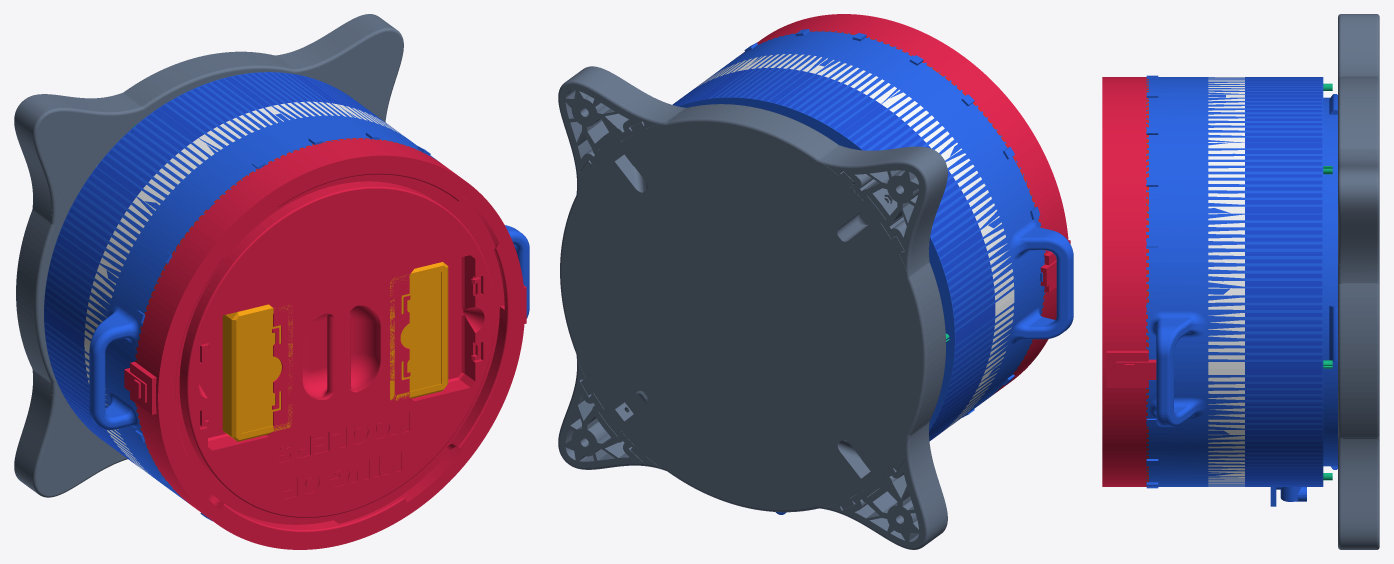
The model's file is KingOfKoolers_V12_12in_Tall_24od.obj.
3 renders of one model, left to right at view 1: azimuth 30°, elevation 25°; view 2: azimuth 150°, elevation 25°; view 3: azimuth 270°, elevation 25°, orthographic. The views are drawn at different scales.
Parts seen in each view (by area): view 1: v12_crown_lid_V12_Embossed_Crown_Lid_+_Deadbolt_Sliders, v12_wagon_base_Concentric_Dovetail_Wagon_Base_+_4x_Wheel_Feet, v12_one_piece_12in_V12_12in_Tall_24in_OD_One-Piece_Body, v12_sec2_lower_12in_Sec_2_-_Lower_Body_&_Spigot_(12in_Version), v12_solar_batteries_Dual_10W_USB_Solar_Battery_Enclosures, v12_sec4_handles_Sec_4_-_Molded_Side_Loop_Handle_Ring, v12_sec3_mid_12in_Sec_3_-_Mid_Body_Extension_(12in_Version), v12_sec5_collar_Sec_5_-_20-Start_Helix_&_Keyway_Collar; view 2: v12_wagon_base_Concentric_Dovetail_Wagon_Base_+_4x_Wheel_Feet, v12_one_piece_12in_V12_12in_Tall_24in_OD_One-Piece_Body, v12_sec2_lower_12in_Sec_2_-_Lower_Body_&_Spigot_(12in_Version), v12_crown_lid_V12_Embossed_Crown_Lid_+_Deadbolt_Sliders, v12_sec4_handles_Sec_4_-_Molded_Side_Loop_Handle_Ring, v12_sec3_mid_12in_Sec_3_-_Mid_Body_Extension_(12in_Version), v12_sec5_collar_Sec_5_-_20-Start_Helix_&_Keyway_Collar; view 3: v12_one_piece_12in_V12_12in_Tall_24in_OD_One-Piece_Body, v12_sec2_lower_12in_Sec_2_-_Lower_Body_&_Spigot_(12in_Version), v12_wagon_base_Concentric_Dovetail_Wagon_Base_+_4x_Wheel_Feet, v12_crown_lid_V12_Embossed_Crown_Lid_+_Deadbolt_Sliders, v12_sec4_handles_Sec_4_-_Molded_Side_Loop_Handle_Ring, v12_sec3_mid_12in_Sec_3_-_Mid_Body_Extension_(12in_Version), v12_sec5_collar_Sec_5_-_20-Start_Helix_&_Keyway_Collar.
Part boxes in pixels (left/top/right/bottom): v12_crown_lid_V12_Embossed_Crown_Lid_+_Deadbolt_Sliders: left=124, top=139, right=526, bottom=549; v12_wagon_base_Concentric_Dovetail_Wagon_Base_+_4x_Wheel_Feet: left=14, top=14, right=403, bottom=497; v12_one_piece_12in_V12_12in_Tall_24in_OD_One-Piece_Body: left=44, top=72, right=529, bottom=521; v12_sec2_lower_12in_Sec_2_-_Lower_Body_&_Spigot_(12in_Version): left=44, top=72, right=386, bottom=465; v12_solar_batteries_Dual_10W_USB_Solar_Battery_Enclosures: left=222, top=262, right=448, bottom=441; v12_sec4_handles_Sec_4_-_Molded_Side_Loop_Handle_Ring: left=90, top=115, right=526, bottom=500; v12_sec3_mid_12in_Sec_3_-_Mid_Body_Extension_(12in_Version): left=84, top=101, right=402, bottom=479; v12_sec5_collar_Sec_5_-_20-Start_Helix_&_Keyway_Collar: left=135, top=138, right=421, bottom=501; v12_wagon_base_Concentric_Dovetail_Wagon_Base_+_4x_Wheel_Feet: left=558, top=66, right=947, bottom=549; v12_one_piece_12in_V12_12in_Tall_24in_OD_One-Piece_Body: left=672, top=29, right=1073, bottom=514; v12_sec2_lower_12in_Sec_2_-_Lower_Body_&_Spigot_(12in_Version): left=673, top=68, right=995, bottom=441; v12_crown_lid_V12_Embossed_Crown_Lid_+_Deadbolt_Sliders: left=742, top=14, right=1070, bottom=394; v12_sec4_handles_Sec_4_-_Molded_Side_Loop_Handle_Ring: left=714, top=31, right=1073, bottom=417; v12_sec3_mid_12in_Sec_3_-_Mid_Body_Extension_(12in_Version): left=694, top=54, right=1014, bottom=431; v12_sec5_collar_Sec_5_-_20-Start_Helix_&_Keyway_Collar: left=759, top=30, right=1045, bottom=394; v12_one_piece_12in_V12_12in_Tall_24in_OD_One-Piece_Body: left=1146, top=75, right=1337, bottom=506; v12_sec2_lower_12in_Sec_2_-_Lower_Body_&_Spigot_(12in_Version): left=1245, top=77, right=1322, bottom=486; v12_wagon_base_Concentric_Dovetail_Wagon_Base_+_4x_Wheel_Feet: left=1338, top=14, right=1379, bottom=549; v12_crown_lid_V12_Embossed_Crown_Lid_+_Deadbolt_Sliders: left=1102, top=77, right=1156, bottom=486; v12_sec4_handles_Sec_4_-_Molded_Side_Loop_Handle_Ring: left=1149, top=77, right=1208, bottom=486; v12_sec3_mid_12in_Sec_3_-_Mid_Body_Extension_(12in_Version): left=1208, top=77, right=1244, bottom=486; v12_sec5_collar_Sec_5_-_20-Start_Helix_&_Keyway_Collar: left=1146, top=77, right=1148, bottom=486.
Size of the model in its own units: 725 by 673 by 412.
